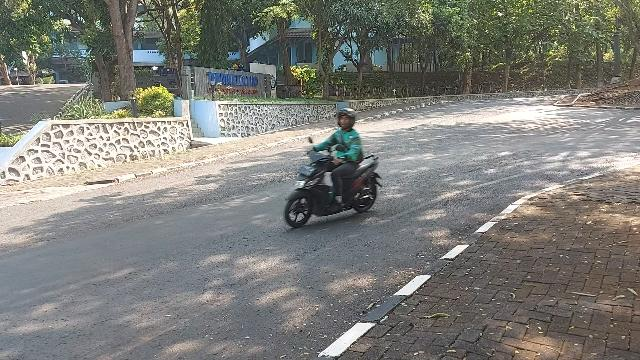helm: (338, 109, 356, 129)
motor: (287, 138, 384, 229)
